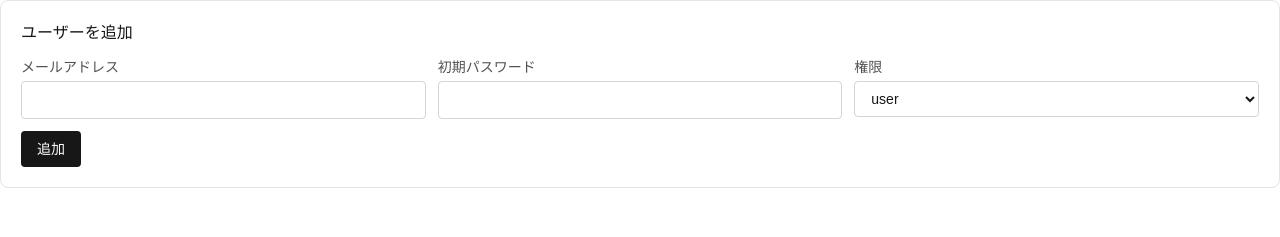
Test: UserForm › サーバーが拒否したら理由を表示し、成功メッセージは出さない
Type "dup@example.com" into the field labelled "メールアドレス" at [223, 100], box [21,81,426,119]
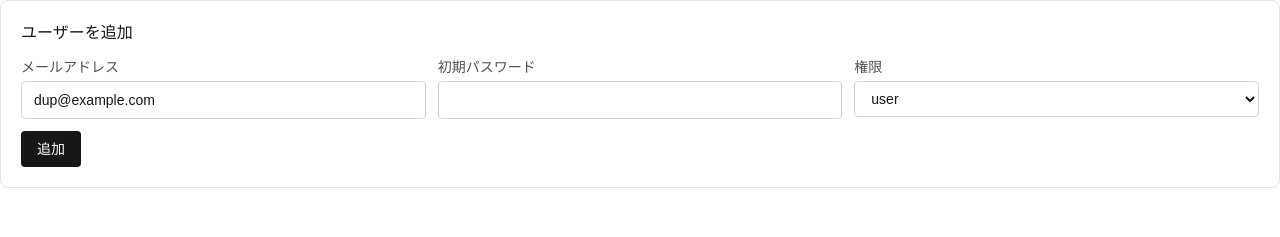
Type "pass1234" into the password field labelled "初期パスワード" at [640, 100], box [438,81,842,119]
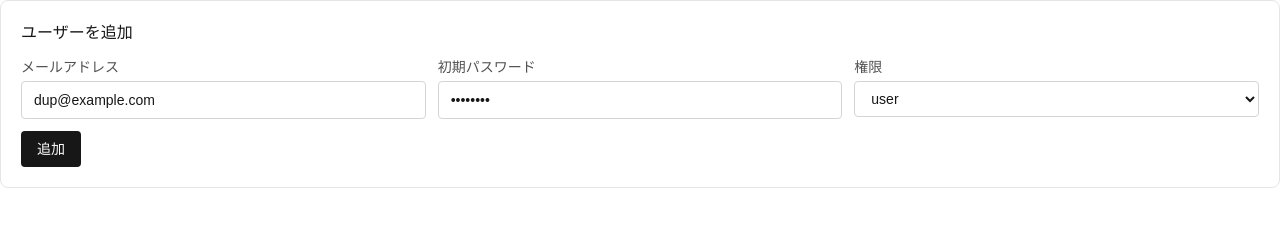
Click the button "追加" at [51, 149], box [21,131,81,167]
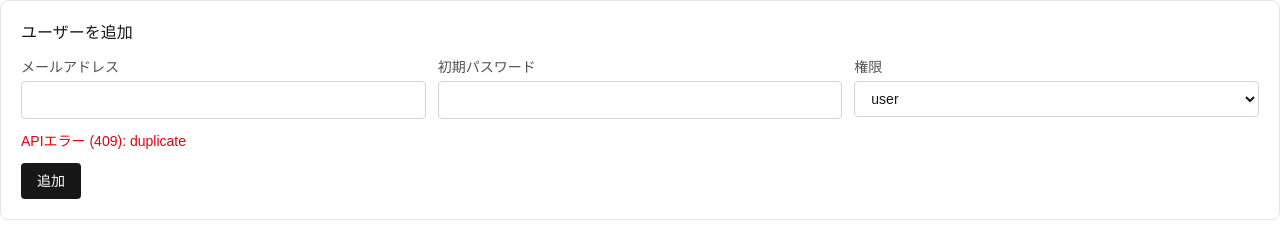
Expected: the text "APIエラー (409): duplicate" is shown, [21,133,186,149]
